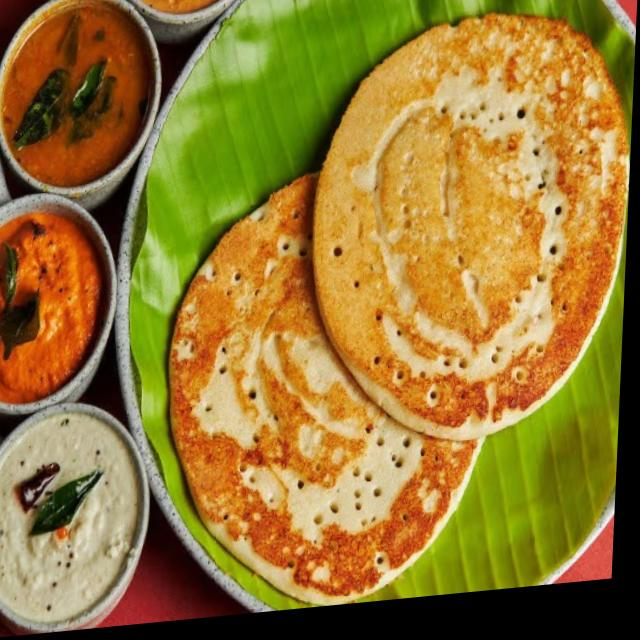DOSA: (168, 25, 629, 603)
RED CHUTNEY: (0, 195, 111, 394)
SAMBAR: (0, 1, 159, 192)
WHITE CHUTNEY: (0, 409, 140, 625)
